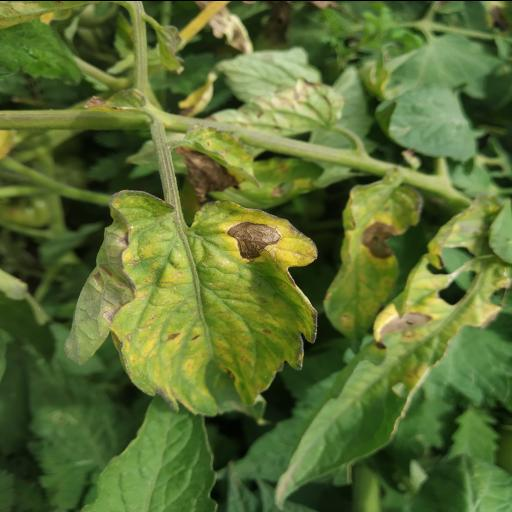disease_tomato: (65, 198, 319, 414), (318, 174, 430, 354)
